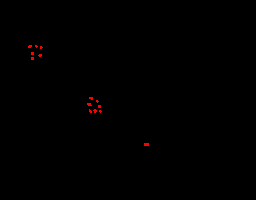Target: (93, 109, 97, 113), (87, 103, 92, 106), (144, 143, 149, 146), (28, 45, 32, 48), (38, 54, 42, 57), (89, 97, 93, 100), (89, 109, 92, 113), (35, 45, 38, 48), (40, 46, 43, 49), (31, 52, 34, 55), (31, 57, 34, 60), (96, 100, 99, 103), (98, 105, 101, 108), (99, 110, 102, 113)
